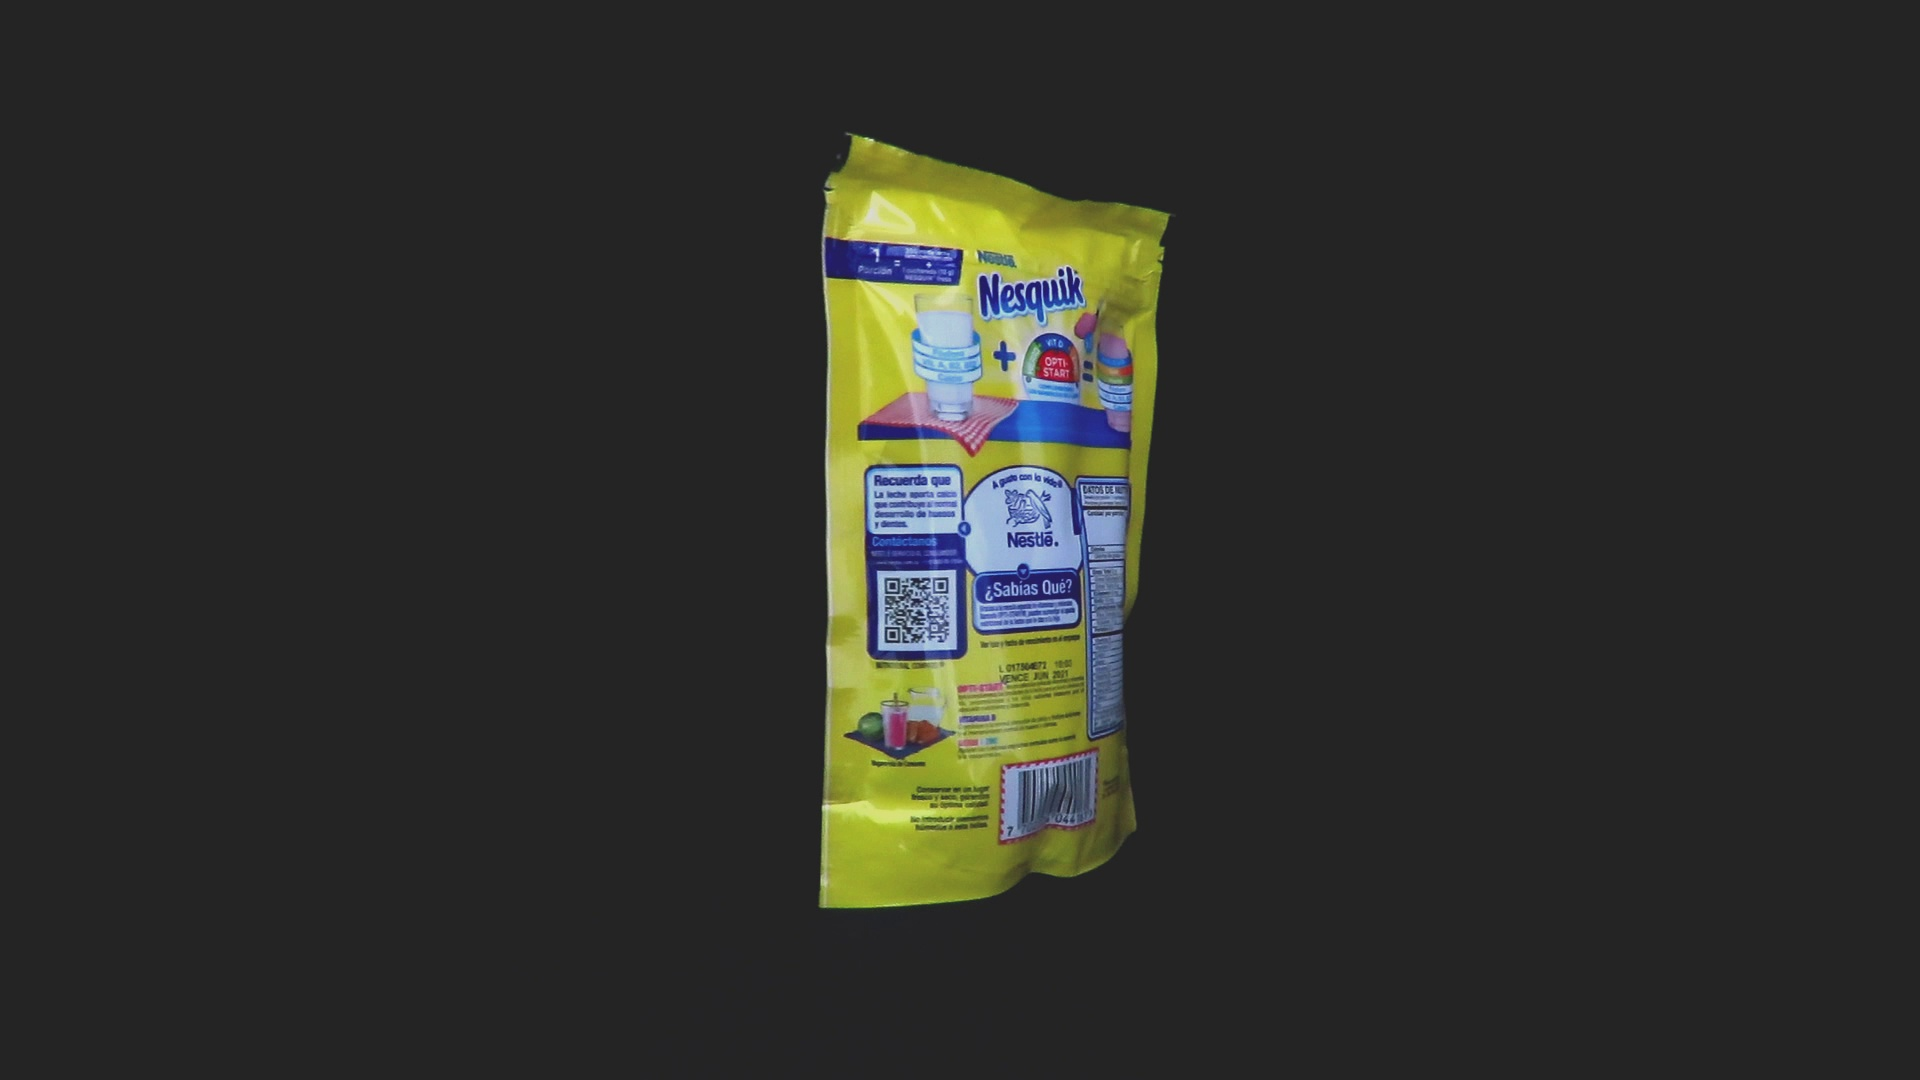COL0170305DYP20000: (814, 127, 1178, 915)
